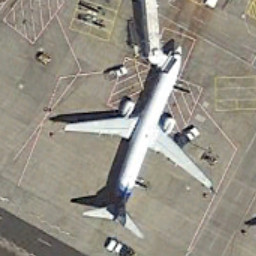Airplane: (60, 38, 219, 237)
